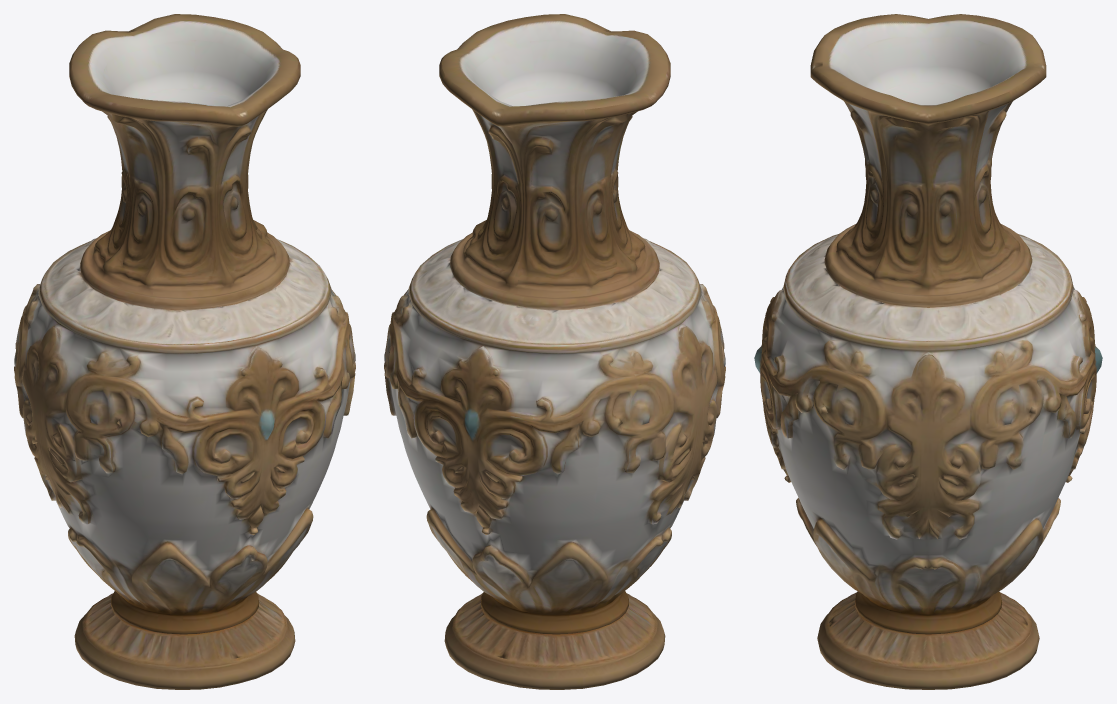
File: fancy_vase_everyday_realistic_style_828f3c92_v4.glb
3 views of the same model, side by side, from view 1: azimuth 30°, elevation 25°; view 2: azimuth 150°, elevation 25°; view 3: azimuth 270°, elevation 25° (orthographic).
Visible parts, largest first — view 1: mesh_input; view 2: mesh_input; view 3: mesh_input.
Boxes of the visible parts, left/top/right/bottom form: mesh_input: left=14, top=14, right=355, bottom=689; mesh_input: left=384, top=14, right=725, bottom=689; mesh_input: left=754, top=14, right=1102, bottom=689.
Size of the model in its own units: 0.9999 by 1.9 by 1.02.
Materials: 1 (1 with a texture image).
